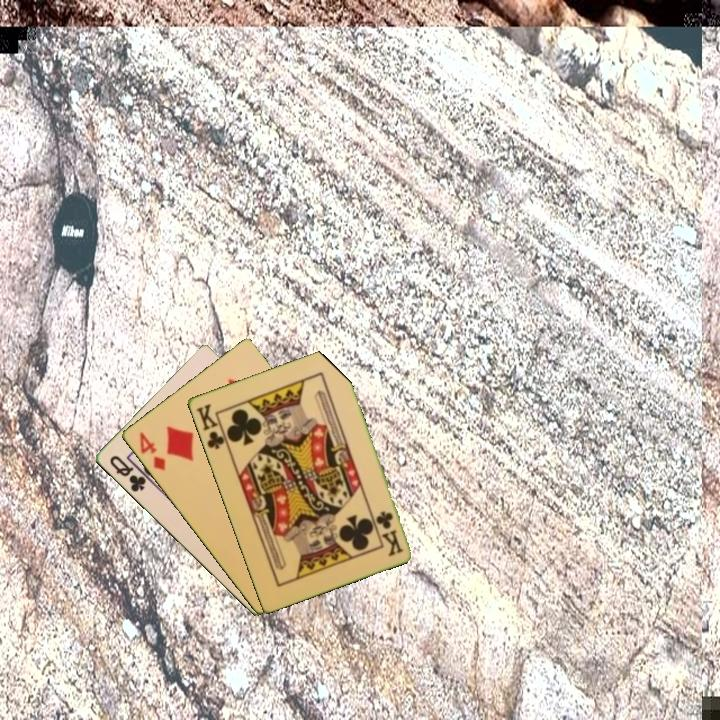4d: (135, 428, 168, 474)
Kc: (192, 400, 230, 452), (372, 507, 406, 559)
Qc: (106, 452, 149, 495)
